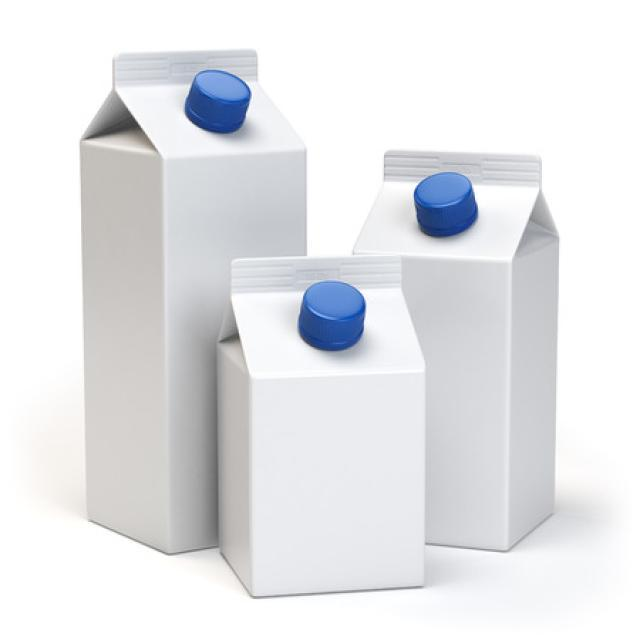Carton: (47, 34, 333, 558), (346, 142, 585, 553), (214, 233, 436, 617)
